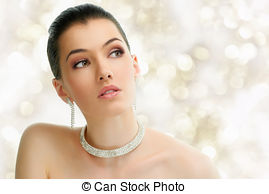face: (52, 10, 149, 124)
